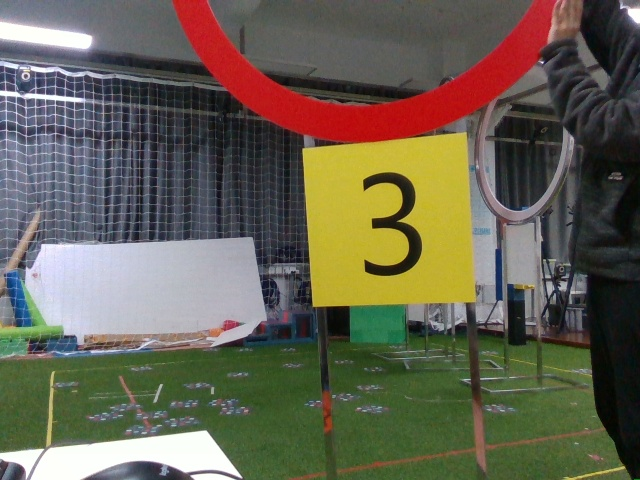target: (310, 150, 471, 302)
